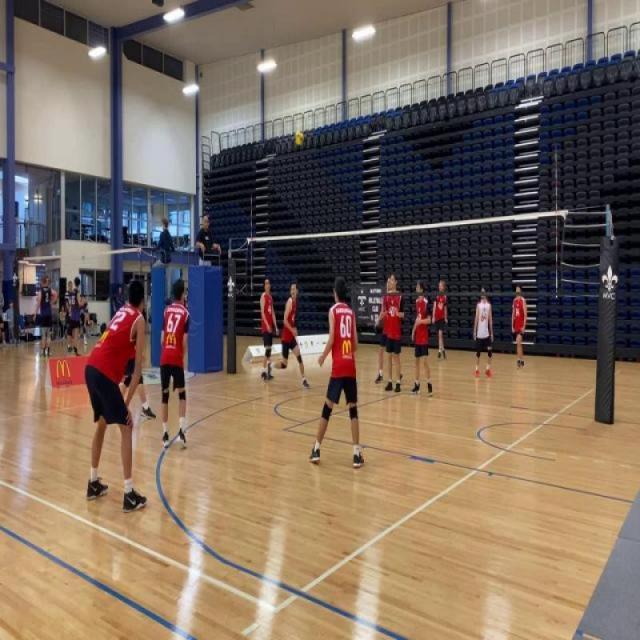volleyball: (294, 128, 306, 148)
